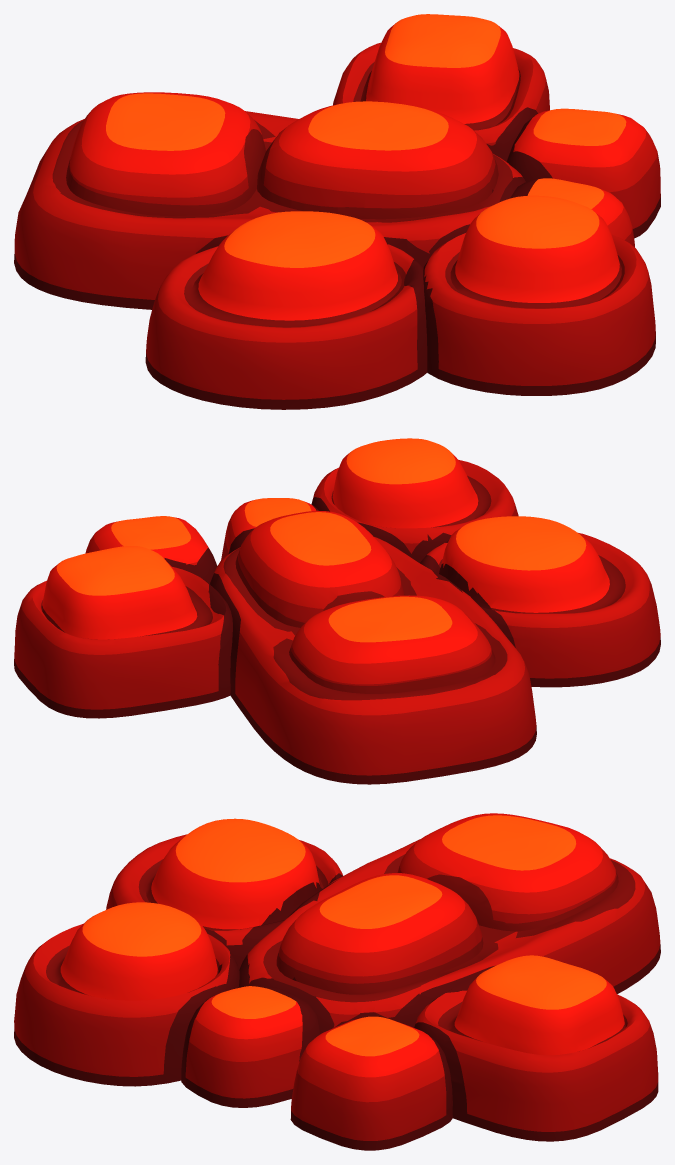
The model's file is bubbles_hot.glb.
The picture shows the model from 3 angles, top to bottom: view 1: azimuth 30°, elevation 25°; view 2: azimuth 150°, elevation 25°; view 3: azimuth 270°, elevation 25°; orthographic projection. The views are drawn at different scales.
Parts seen in each view (by area): view 1: lower_left, bottom, pill, pill_ridge, pill_pad, upper_right, right, small; view 2: pill, upper_right, lower_left, pill_pad, bottom, pill_ridge, right, small; view 3: upper_right, bottom, pill, lower_left, pill_ridge, pill_pad, right, small.
Part boxes in pixels (<box>): lower_left: <box>145,211,427,409</box>; bottom: <box>423,195,655,395</box>; pill: <box>14,111,525,309</box>; pill_ridge: <box>257,101,498,219</box>; pill_pad: <box>66,92,265,216</box>; upper_right: <box>333,14,549,161</box>; right: <box>506,108,660,238</box>; small: <box>510,178,634,247</box>; pill: <box>210,537,536,784</box>; upper_right: <box>14,546,232,718</box>; lower_left: <box>420,516,660,687</box>; pill_pad: <box>289,595,495,693</box>; bottom: <box>311,438,518,562</box>; pill_ridge: <box>235,510,404,627</box>; right: <box>85,516,217,583</box>; small: <box>221,498,318,560</box>; upper_right: <box>414,955,658,1141</box>; bottom: <box>14,902,239,1086</box>; pill: <box>238,839,660,1033</box>; lower_left: <box>106,818,342,969</box>; pill_ridge: <box>276,873,483,994</box>; pill_pad: <box>397,813,618,931</box>; right: <box>290,1016,452,1150</box>; small: <box>181,985,320,1107</box>.
Size of the model in its own units: 23.98 by 5.44 by 24.89.
